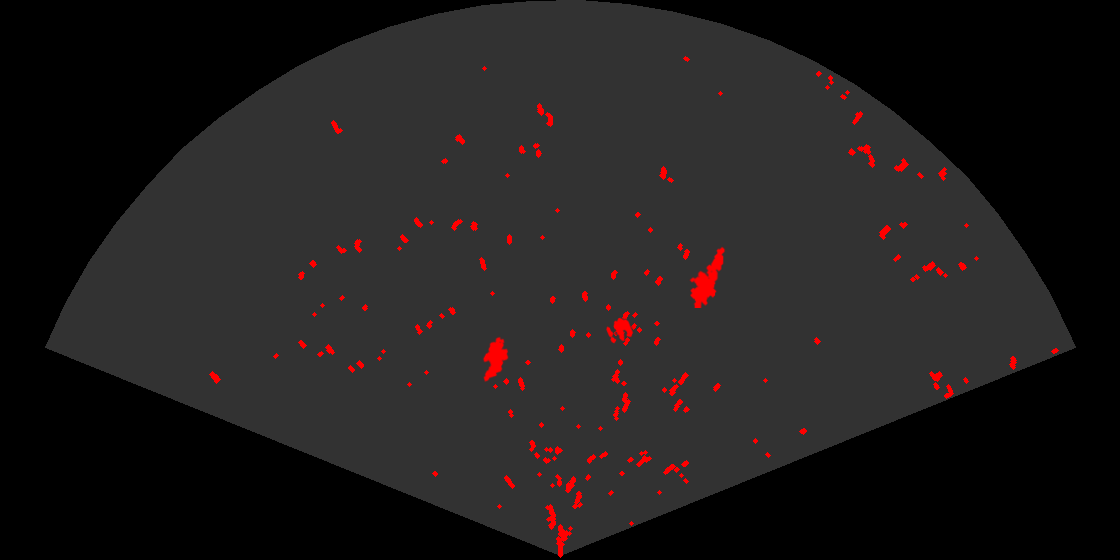AUV: (481, 335, 510, 384)
ball: (605, 316, 635, 345)
frogman: (688, 245, 727, 308)
